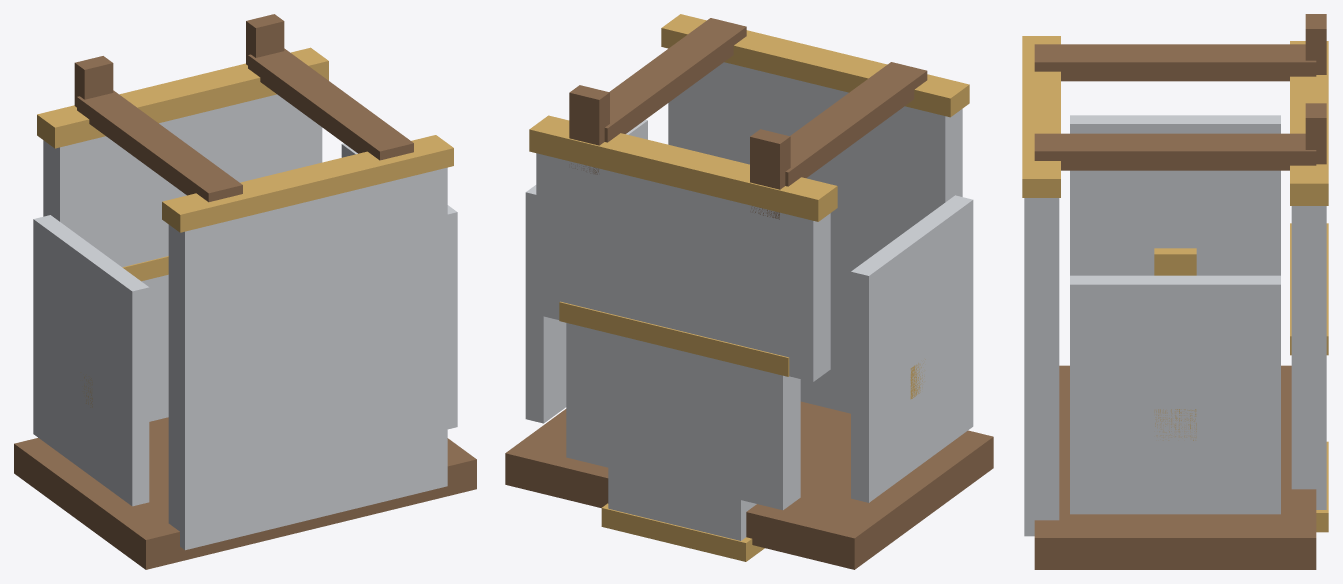
File: armadura_tronco.glb
3 renders of one model, left to right at view 1: azimuth 30°, elevation 25°; view 2: azimuth 150°, elevation 25°; view 3: azimuth 270°, elevation 25°, orthographic. The views are drawn at different scales.
Parts seen in each view (by area): view 1: armadura_tronco; view 2: armadura_tronco; view 3: armadura_tronco.
Part boxes in pixels (left/top/right/bottom): armadura_tronco: left=14, top=14, right=476, bottom=569; armadura_tronco: left=505, top=14, right=993, bottom=569; armadura_tronco: left=1022, top=14, right=1328, bottom=569.
Bounding box in the file's own units: 0.58 × 0.675 × 0.435.
